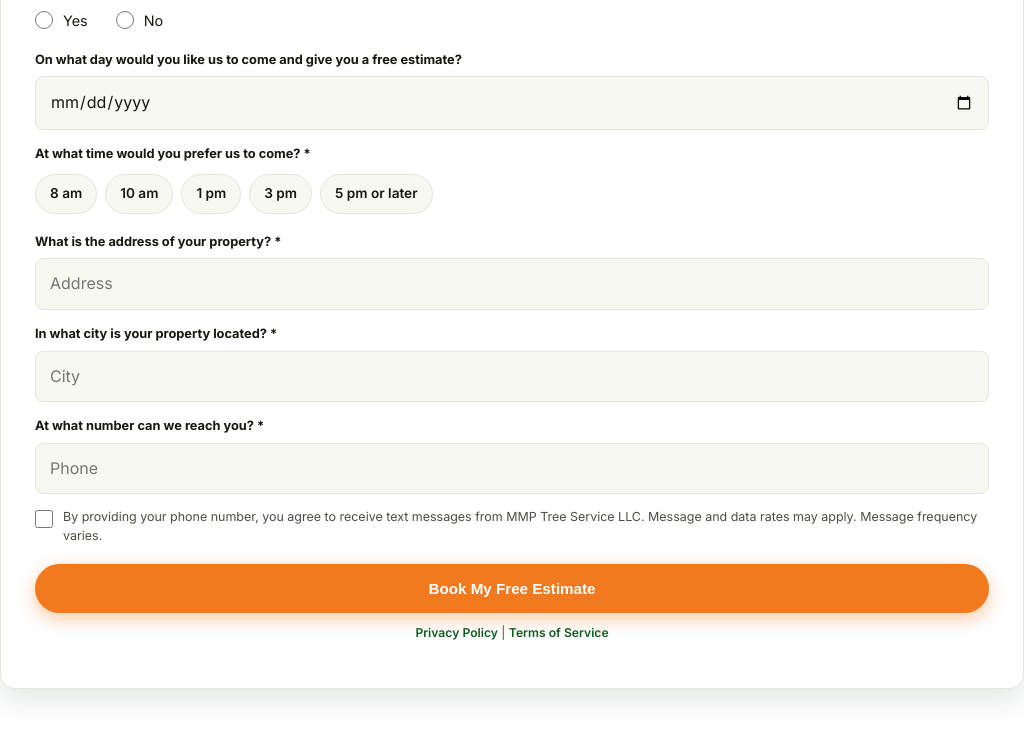
Test: EstimateForm › clears a field's error once the visitor fixes it
The width and height of the screenshot is (1024, 753).
(page scrolled)
Click the button "Book My Free Estimate" at [512, 588], box [35,564,989,613]
(page scrolled)
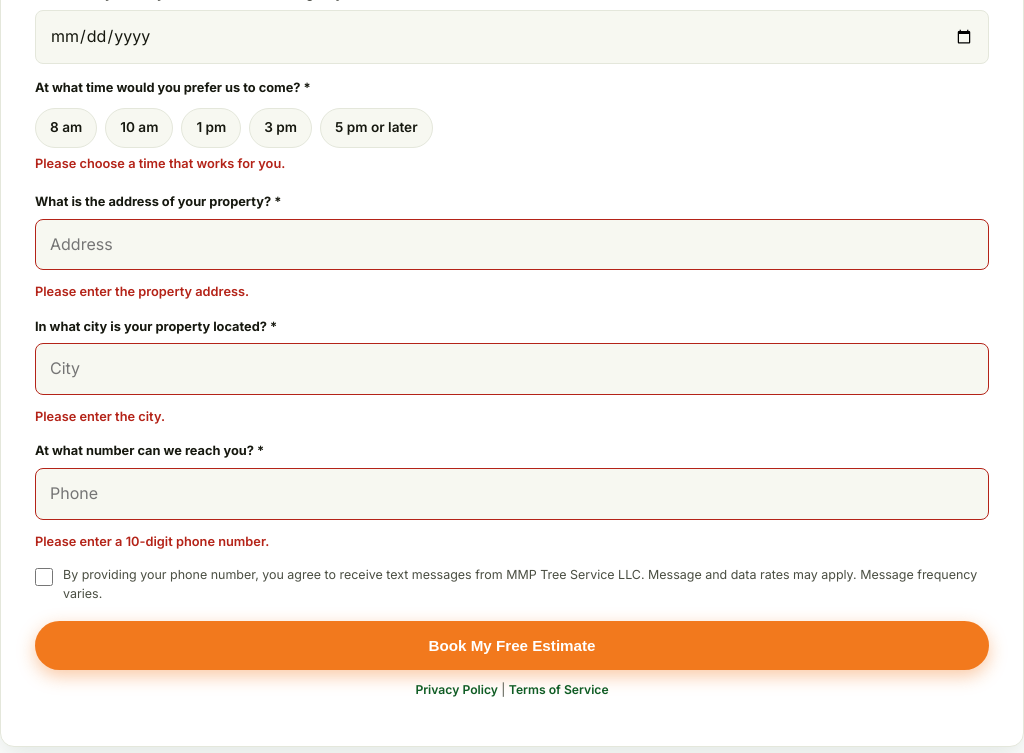
Check: the text "Please enter the city." is shown, box [35,409,165,424]
Type "Canton" into the field labelled "In what city is your property located? *" at [512, 369], box [35,343,989,395]
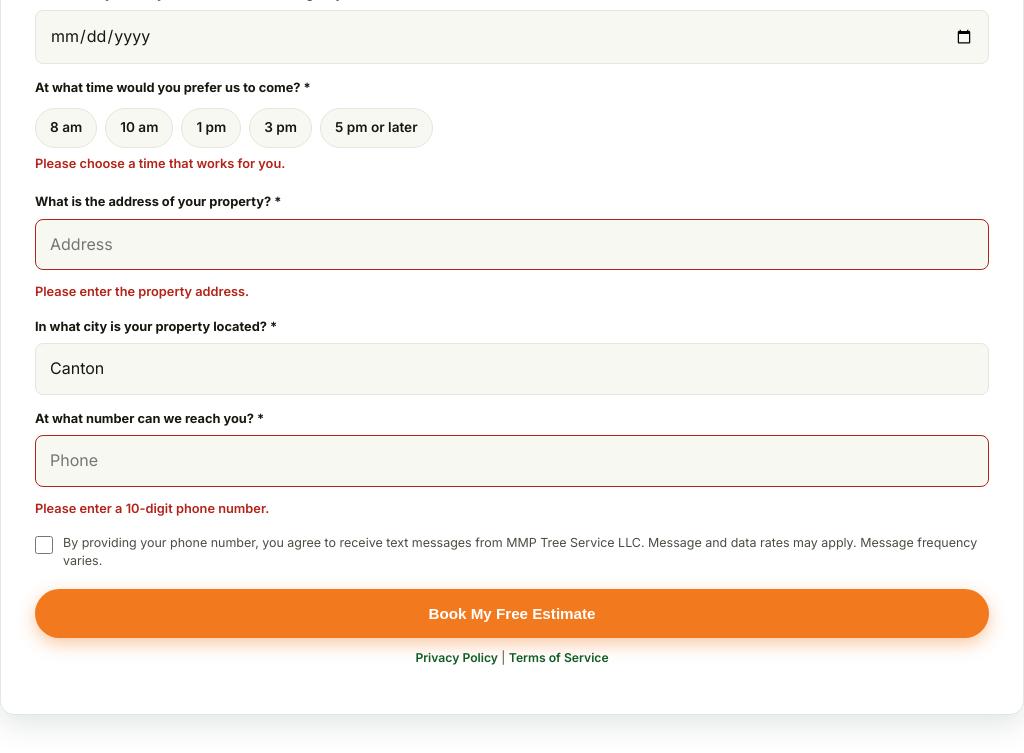
Check: the text "Please enter the property address." is shown, box [35,284,249,300]
Check: the text "Please enter the city." is gone
